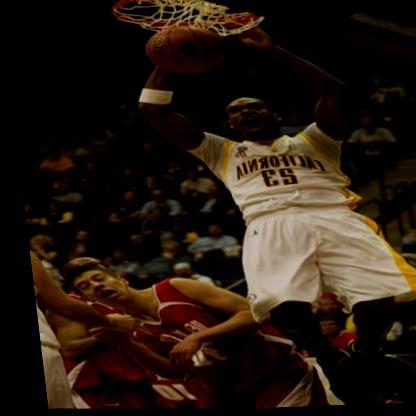basketball: (141, 24, 231, 79)
